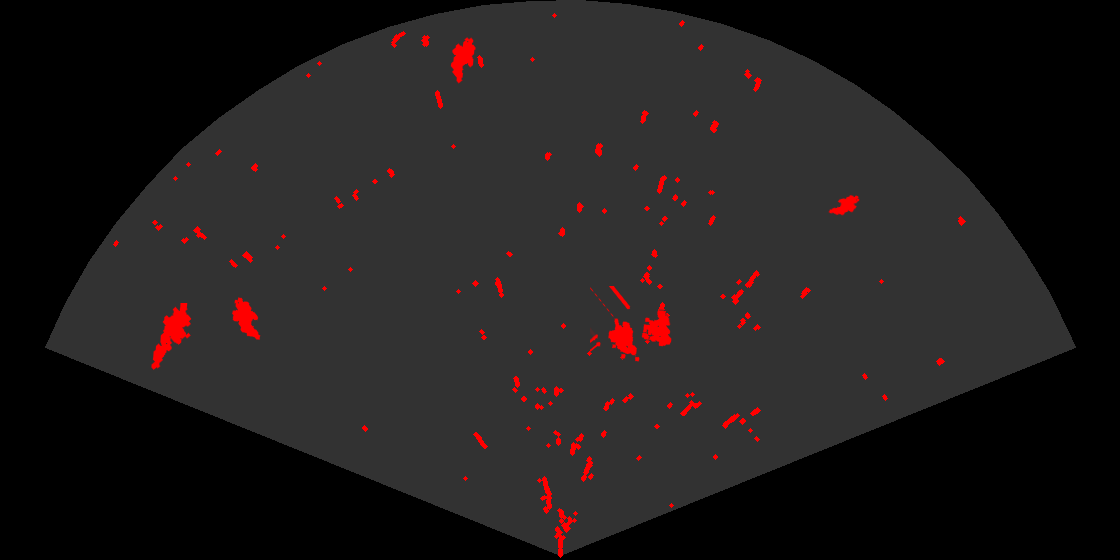AUV: (230, 296, 262, 341), (449, 36, 477, 85), (827, 193, 861, 217)
cage: (590, 286, 673, 363)
frogman: (150, 303, 193, 371)
